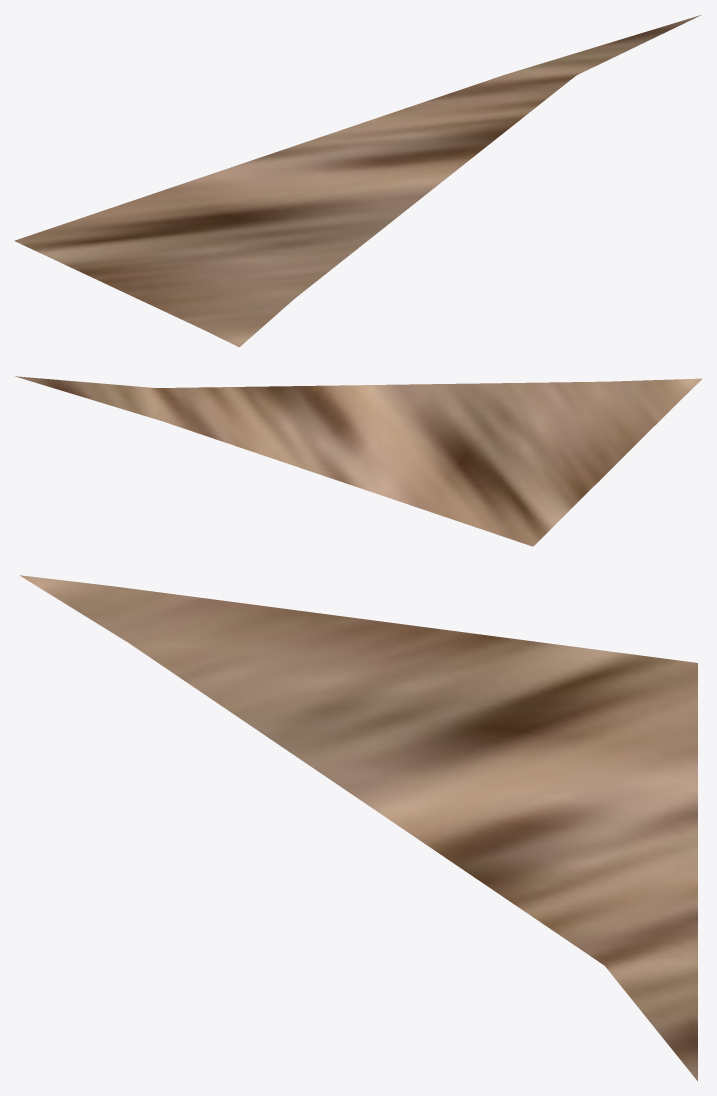
3 views of the same model, one above another, from view 1: azimuth 30°, elevation 25°; view 2: azimuth 150°, elevation 25°; view 3: azimuth 270°, elevation 25° (orthographic). The views are drawn at different scales.
Bounding box in the file's own units: 0.7914 × 0.064 × 0.4483.
1 material, 1 textured.
